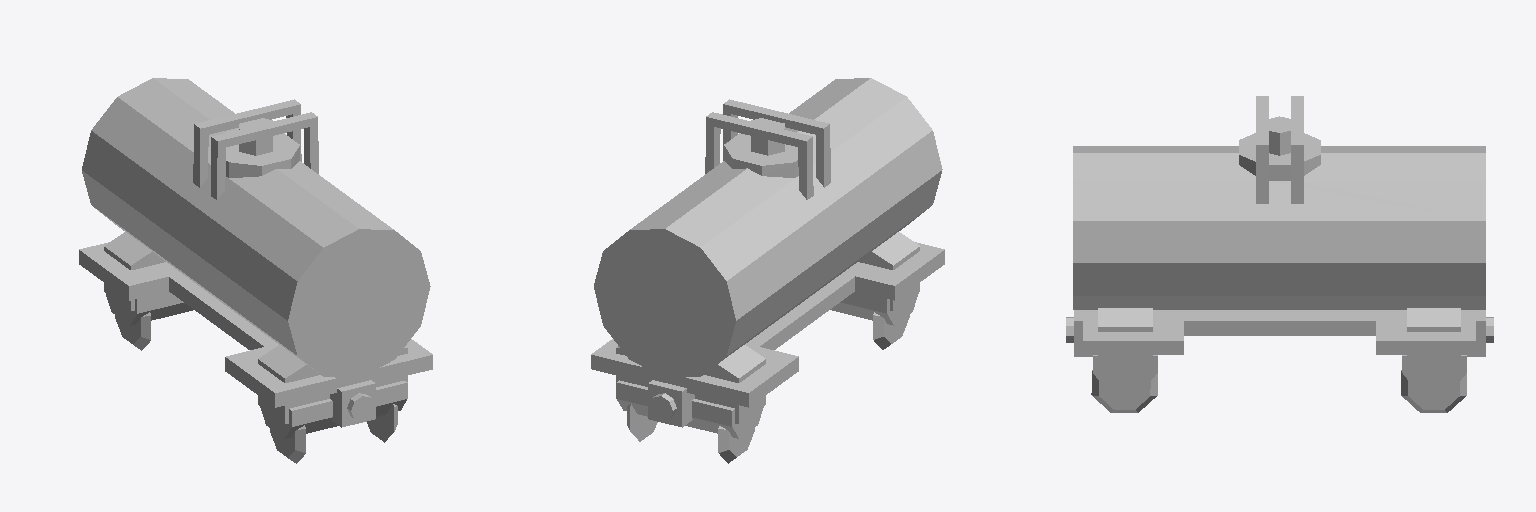
Rendered from SM_Veh_Carriage_Cylinder_01.obj.
3 views of the same model, side by side, from view 1: azimuth 30°, elevation 25°; view 2: azimuth 150°, elevation 25°; view 3: azimuth 270°, elevation 25° (orthographic).
Parts seen in each view (by area): view 1: SM_Veh_Carriage_Cylinder_01:Mesh; view 2: SM_Veh_Carriage_Cylinder_01:Mesh; view 3: SM_Veh_Carriage_Cylinder_01:Mesh.
Part boxes in pixels (x1,y1,x2,y2): SM_Veh_Carriage_Cylinder_01:Mesh: (79, 78, 432, 463); SM_Veh_Carriage_Cylinder_01:Mesh: (591, 78, 944, 463); SM_Veh_Carriage_Cylinder_01:Mesh: (1066, 96, 1493, 412).
Size of the model in its own units: 4.6 by 7.54 by 10.77.